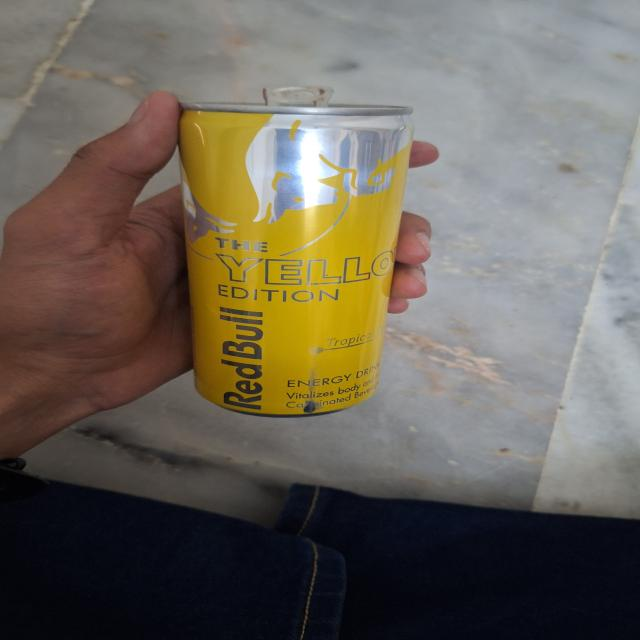Redbull Yellow Edition: (178, 98, 416, 418)
